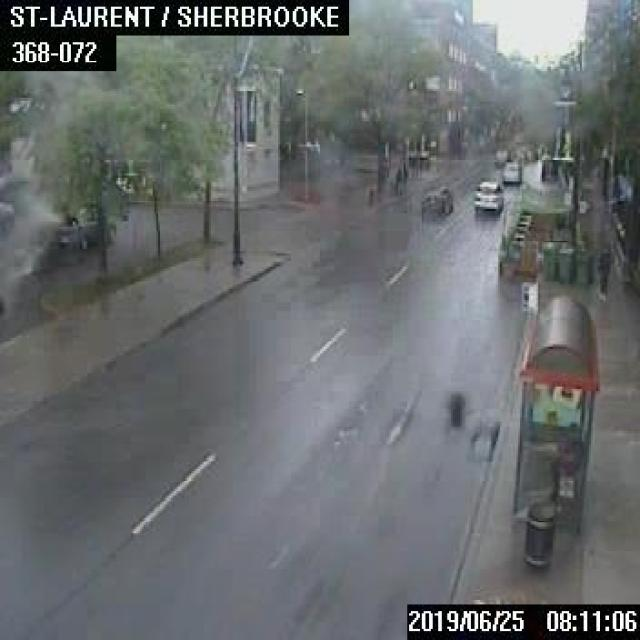pedestrian: (596, 250, 608, 298)
vehicle: (52, 206, 114, 247), (420, 184, 451, 213), (473, 179, 501, 209), (501, 160, 520, 182), (493, 148, 509, 166)
